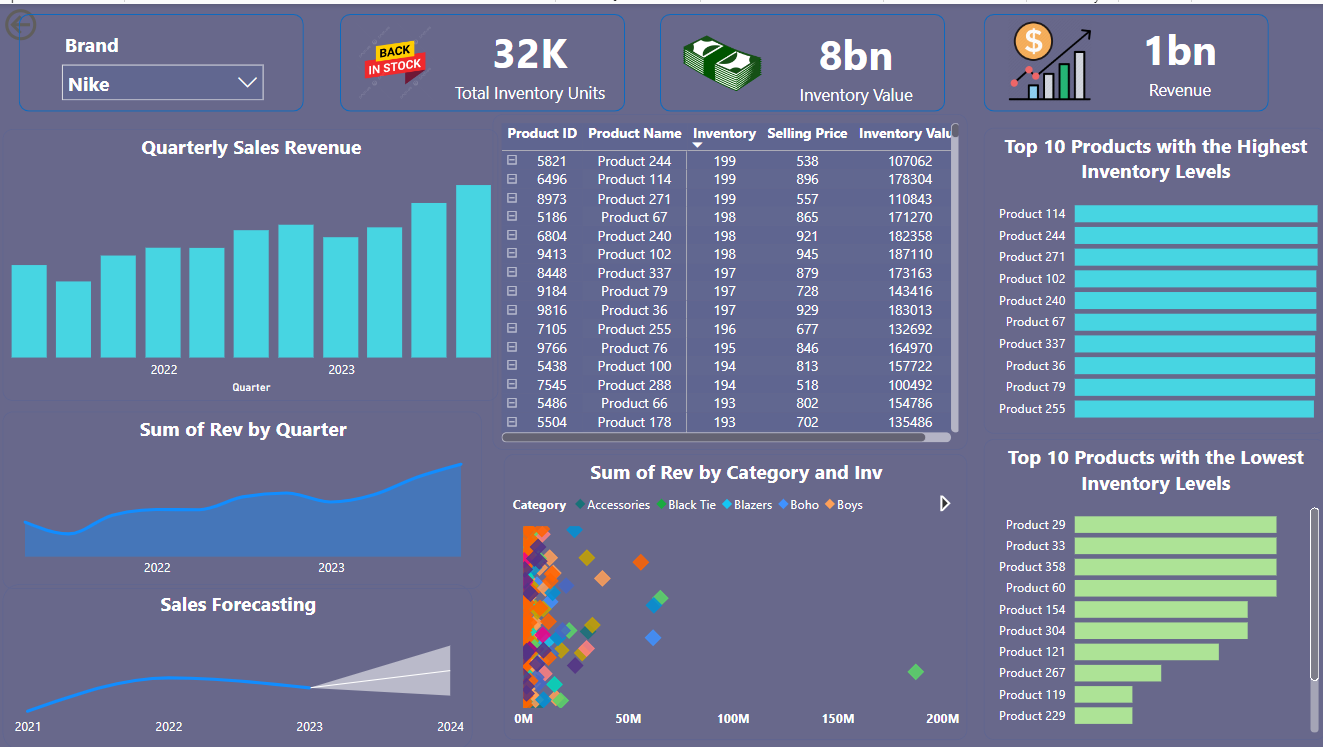

Layout of this report page (visuals, bound fields, positions):
{"tool":"powerbi","page":{"name":"Page 1","canvas":[1280,720],"ordinal":0},"visuals":[{"type":"pivotTable","fields":{"Rows":["Master.Product ID","Master.Product Name"],"Values":["Sum(Master.Inv)","Calendar.Total SP Value","Calendar.Inventory Value"]},"box":[475,106.2,458.8,323.8],"z":0},{"type":"actionButton","box":[0,0,100,40],"z":1000},{"type":"clusteredColumnChart","title":"Quarterly Sales Revenue","fields":{"Category":["Calendar.Quarter"],"Y":["Sum(Sales.Rev)"]},"box":[2.5,120,478.8,262.5],"z":2000},{"type":"areaChart","title":"Sum of Rev by Quarter","fields":{"Category":["Calendar.Quarter"],"Y":["Sum(Sales.Rev)"]},"box":[2.5,393.8,462.5,171.2],"z":3000},{"type":"clusteredBarChart","title":"Top 10 Products with the Highest Inventory Levels","fields":{"Category":["Master.Product Name"],"Y":["Calendar.Total Inventory Units"]},"box":[949.1,119.4,330.5,295.5],"z":4000},{"type":"clusteredBarChart","title":"Top 10 Products with the Lowest Inventory Levels","fields":{"Category":["Master.Product Name"],"Y":["Calendar.Total Inventory Units"]},"box":[949.1,419.7,330.5,290.7],"z":5000},{"type":"shape","box":[327.8,10,275.1,94.1],"z":6000},{"type":"shape","box":[18.1,9.6,275,94.1],"z":7000},{"type":"shape","box":[949.1,9.6,275,94.1],"z":8000},{"type":"shape","box":[637.1,10,275.1,94.1],"z":9000},{"type":"card","fields":{"Values":["Calendar.Total Inventory Units"]},"box":[408.8,9.6,205,94.1],"z":10000},{"type":"card","fields":{"Values":["Calendar.Inventory Value"]},"box":[723.6,12.1,205,94.1],"z":11000},{"type":"slicer","fields":{"Values":["Master.Brand"]},"box":[49.4,21.7,214.7,71.2],"z":12000},{"type":"card","fields":{"Values":["Sum(Sales.Rev)"]},"box":[1036,7.2,205,94.1],"z":13000},{"type":"image","box":[333.1,11.5,96.9,89.2],"z":14000},{"type":"image","box":[651.5,10,91.5,91.5],"z":15000},{"type":"image","box":[967.7,8.5,91.5,93.1],"z":16000},{"type":"lineChart","title":"Sales Forecasting","fields":{"Y":["Sum(Sales.Rev)"],"Category":["Calendar.Date.Variation.Date Hierarchy.Year"]},"box":[2.5,560,453.8,160],"z":17000},{"type":"scatterChart","fields":{"Y":["Master.Inv"],"Series":["Master.Category"],"X":["Sum(Sales.Rev)"]},"box":[486,434.2,447.4,276.2],"z":18000}]}

Visuals, with their boxes in screenshot pixels (x1, y1, x2, y2), scaled from the page's 1280x720 canvas onto the 1323x747 screenshot:
pivotTable - Master.Product ID x Master.Product Name: BBox(491, 110, 965, 446)
actionButton: BBox(0, 0, 103, 42)
"Quarterly Sales Revenue" clusteredColumnChart: BBox(3, 125, 497, 397)
"Sum of Rev by Quarter" areaChart: BBox(3, 409, 481, 586)
"Top 10 Products with the Highest Inventory Levels" clusteredBarChart: BBox(981, 124, 1322, 430)
"Top 10 Products with the Lowest Inventory Levels" clusteredBarChart: BBox(981, 435, 1322, 737)
shape: BBox(339, 10, 623, 108)
shape: BBox(19, 10, 303, 108)
shape: BBox(981, 10, 1265, 108)
shape: BBox(659, 10, 943, 108)
card - Calendar.Total Inventory Units: BBox(423, 10, 634, 108)
card - Calendar.Inventory Value: BBox(748, 13, 960, 110)
slicer - Master.Brand: BBox(51, 23, 273, 96)
card - Sum(Sales.Rev): BBox(1071, 7, 1283, 105)
image: BBox(344, 12, 444, 104)
image: BBox(673, 10, 768, 105)
image: BBox(1000, 9, 1095, 105)
"Sales Forecasting" lineChart: BBox(3, 581, 472, 746)
scatterChart - Master.Inv x Master.Category: BBox(502, 450, 965, 737)
